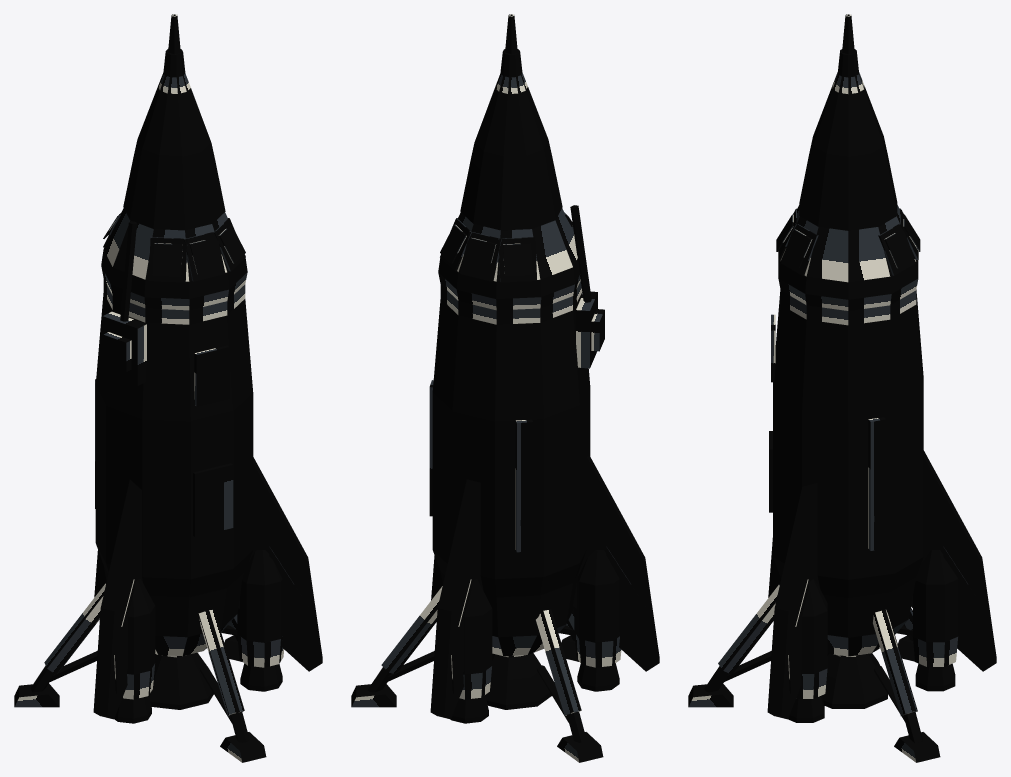
The model's file is surveyor.obj.
3 renders of one model, left to right at view 1: azimuth 30°, elevation 25°; view 2: azimuth 150°, elevation 25°; view 3: azimuth 270°, elevation 25°, orthographic.
Visible parts, largest first — view 1: airframe, access_hatch; view 2: airframe; view 3: airframe.
Part boxes in pixels (left/top/right/bottom): airframe: left=14, top=14, right=322, bottom=762; access_hatch: left=193, top=463, right=233, bottom=536; airframe: left=351, top=14, right=659, bottom=762; airframe: left=688, top=14, right=996, bottom=762.
Size of the model in its own units: 2.3 by 5.97 by 2.43.
